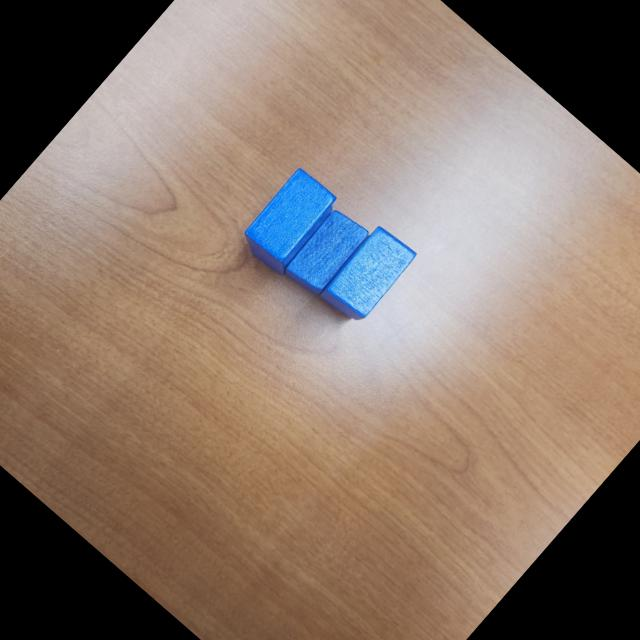blue: (316, 221, 422, 332), (238, 166, 338, 270), (279, 202, 374, 302), (246, 180, 340, 280)
